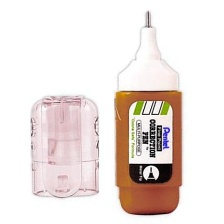correction_fluid: (111, 6, 185, 218)
